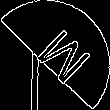M_SW: (22, 21, 88, 89)
